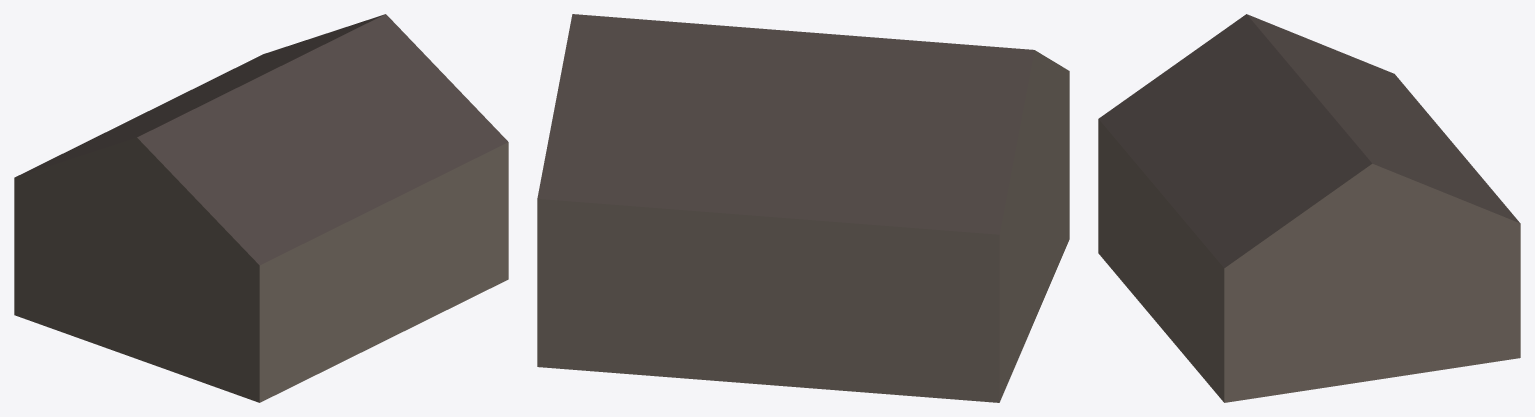
3 views of the same model, side by side, from view 1: azimuth 30°, elevation 25°; view 2: azimuth 150°, elevation 25°; view 3: azimuth 270°, elevation 25° (orthographic). The views are drawn at different scales.
Parts seen in each view (by area): view 1: HP-w859457487; view 2: HP-w859457487; view 3: HP-w859457487.
Boxes of the visible parts, x1=… form: HP-w859457487: x1=14, y1=14, x2=508, y2=402; HP-w859457487: x1=537, y1=14, x2=1069, y2=402; HP-w859457487: x1=1098, y1=14, x2=1520, y2=402.
Bounding box in the file's own units: 18.61 × 9.67 × 17.06.
